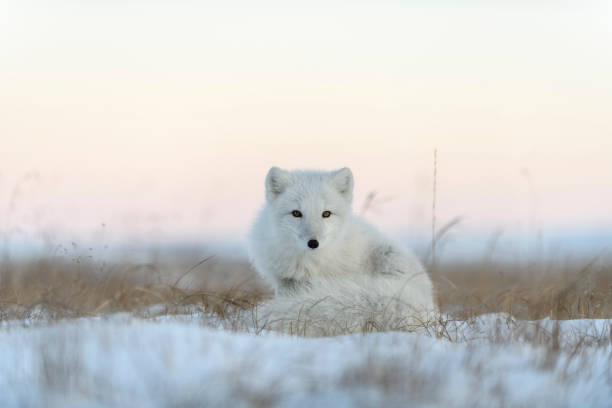arcticfox: (275, 191, 355, 271)
